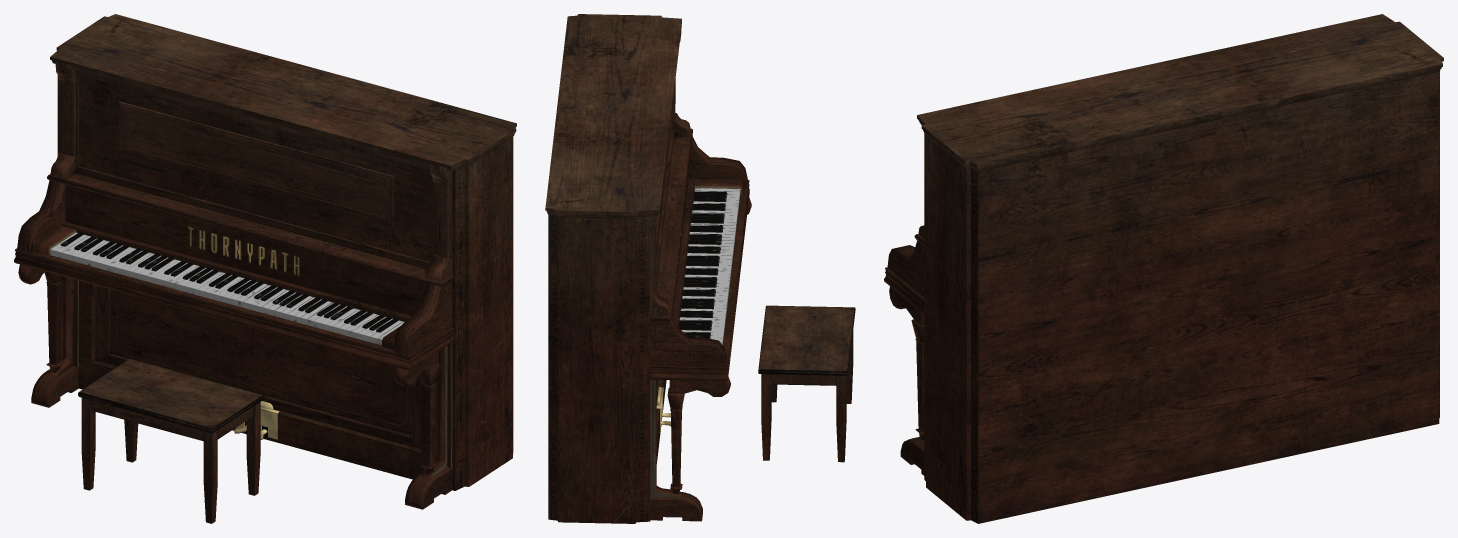
File: Piano.obj
3 renders of one model, left to right at view 1: azimuth 30°, elevation 25°; view 2: azimuth 150°, elevation 25°; view 3: azimuth 270°, elevation 25°, orthographic. The views are drawn at different scales.
Visible parts, largest first — view 1: Cube_Cube.002; view 2: Cube_Cube.002; view 3: Cube_Cube.002.
Boxes of the visible parts, x1,y1,x2,y2 form: Cube_Cube.002: (14,14,516,523); Cube_Cube.002: (545,14,855,523); Cube_Cube.002: (884,14,1443,523).
Bounding box in the file's own units: 1.82 × 1.56 × 2.19.
Materials: 2 (2 with a texture image).
